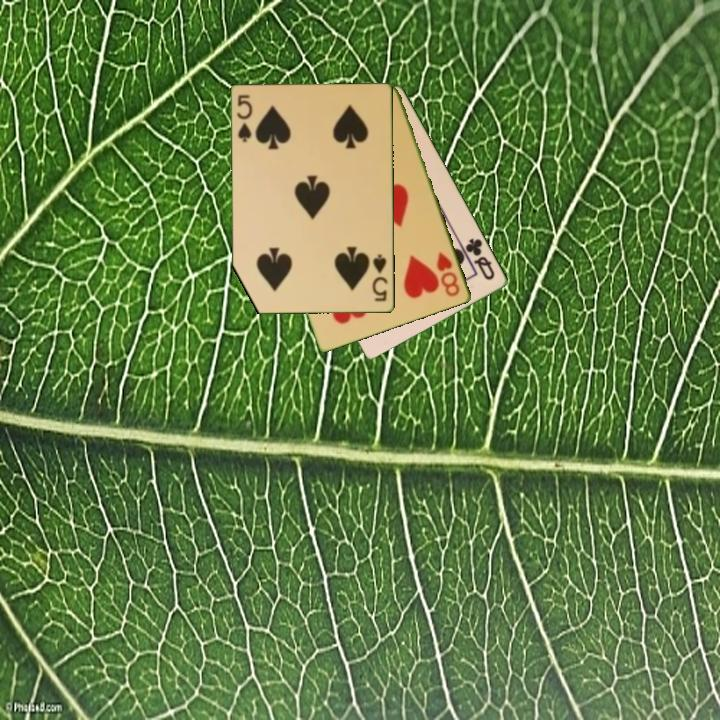5s: (369, 251, 391, 304), (234, 92, 255, 145)
8h: (433, 248, 463, 300)
Qc: (462, 234, 498, 283)
